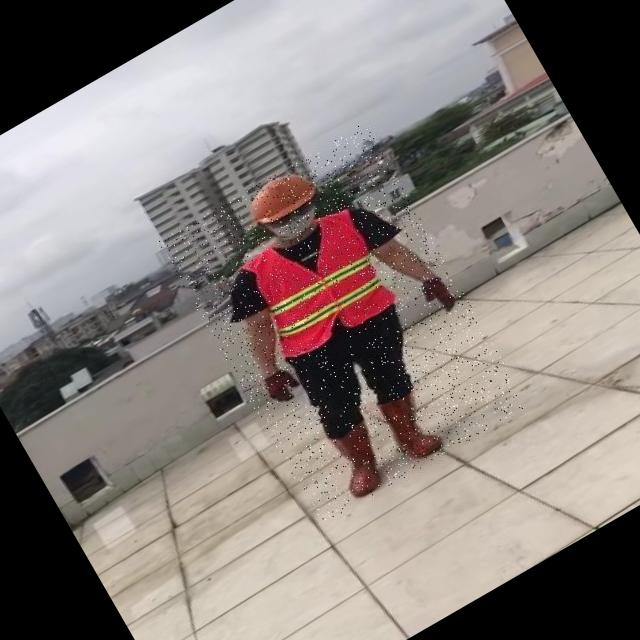hard_hat: (236, 160, 324, 233)
safety_vest: (235, 206, 396, 364)
vehicle: (158, 122, 529, 526)
work_boots: (319, 419, 396, 503), (374, 383, 448, 467)
